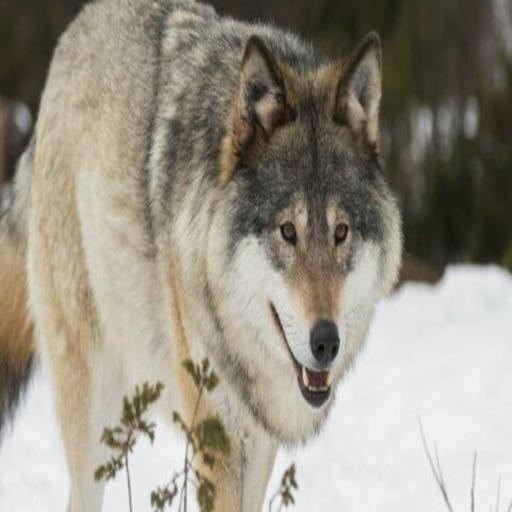Wolf: (0, 0, 406, 509)
